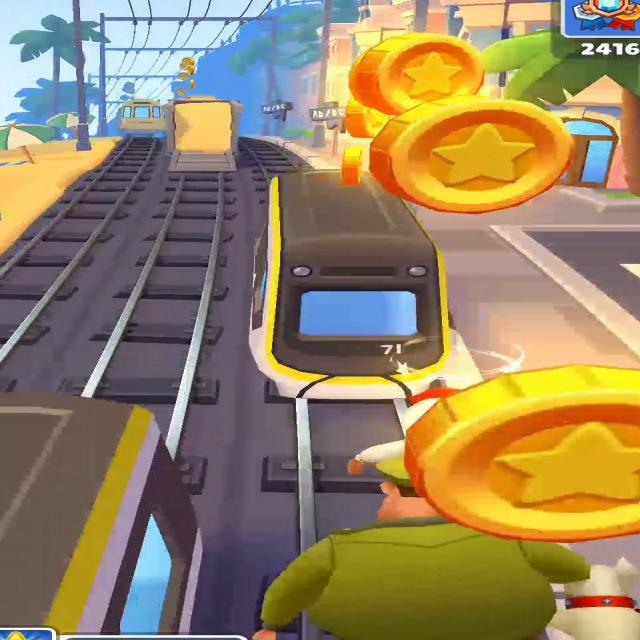climber: (165, 96, 243, 174)
police: (253, 459, 590, 640)
train: (249, 169, 461, 403), (119, 99, 166, 133)
